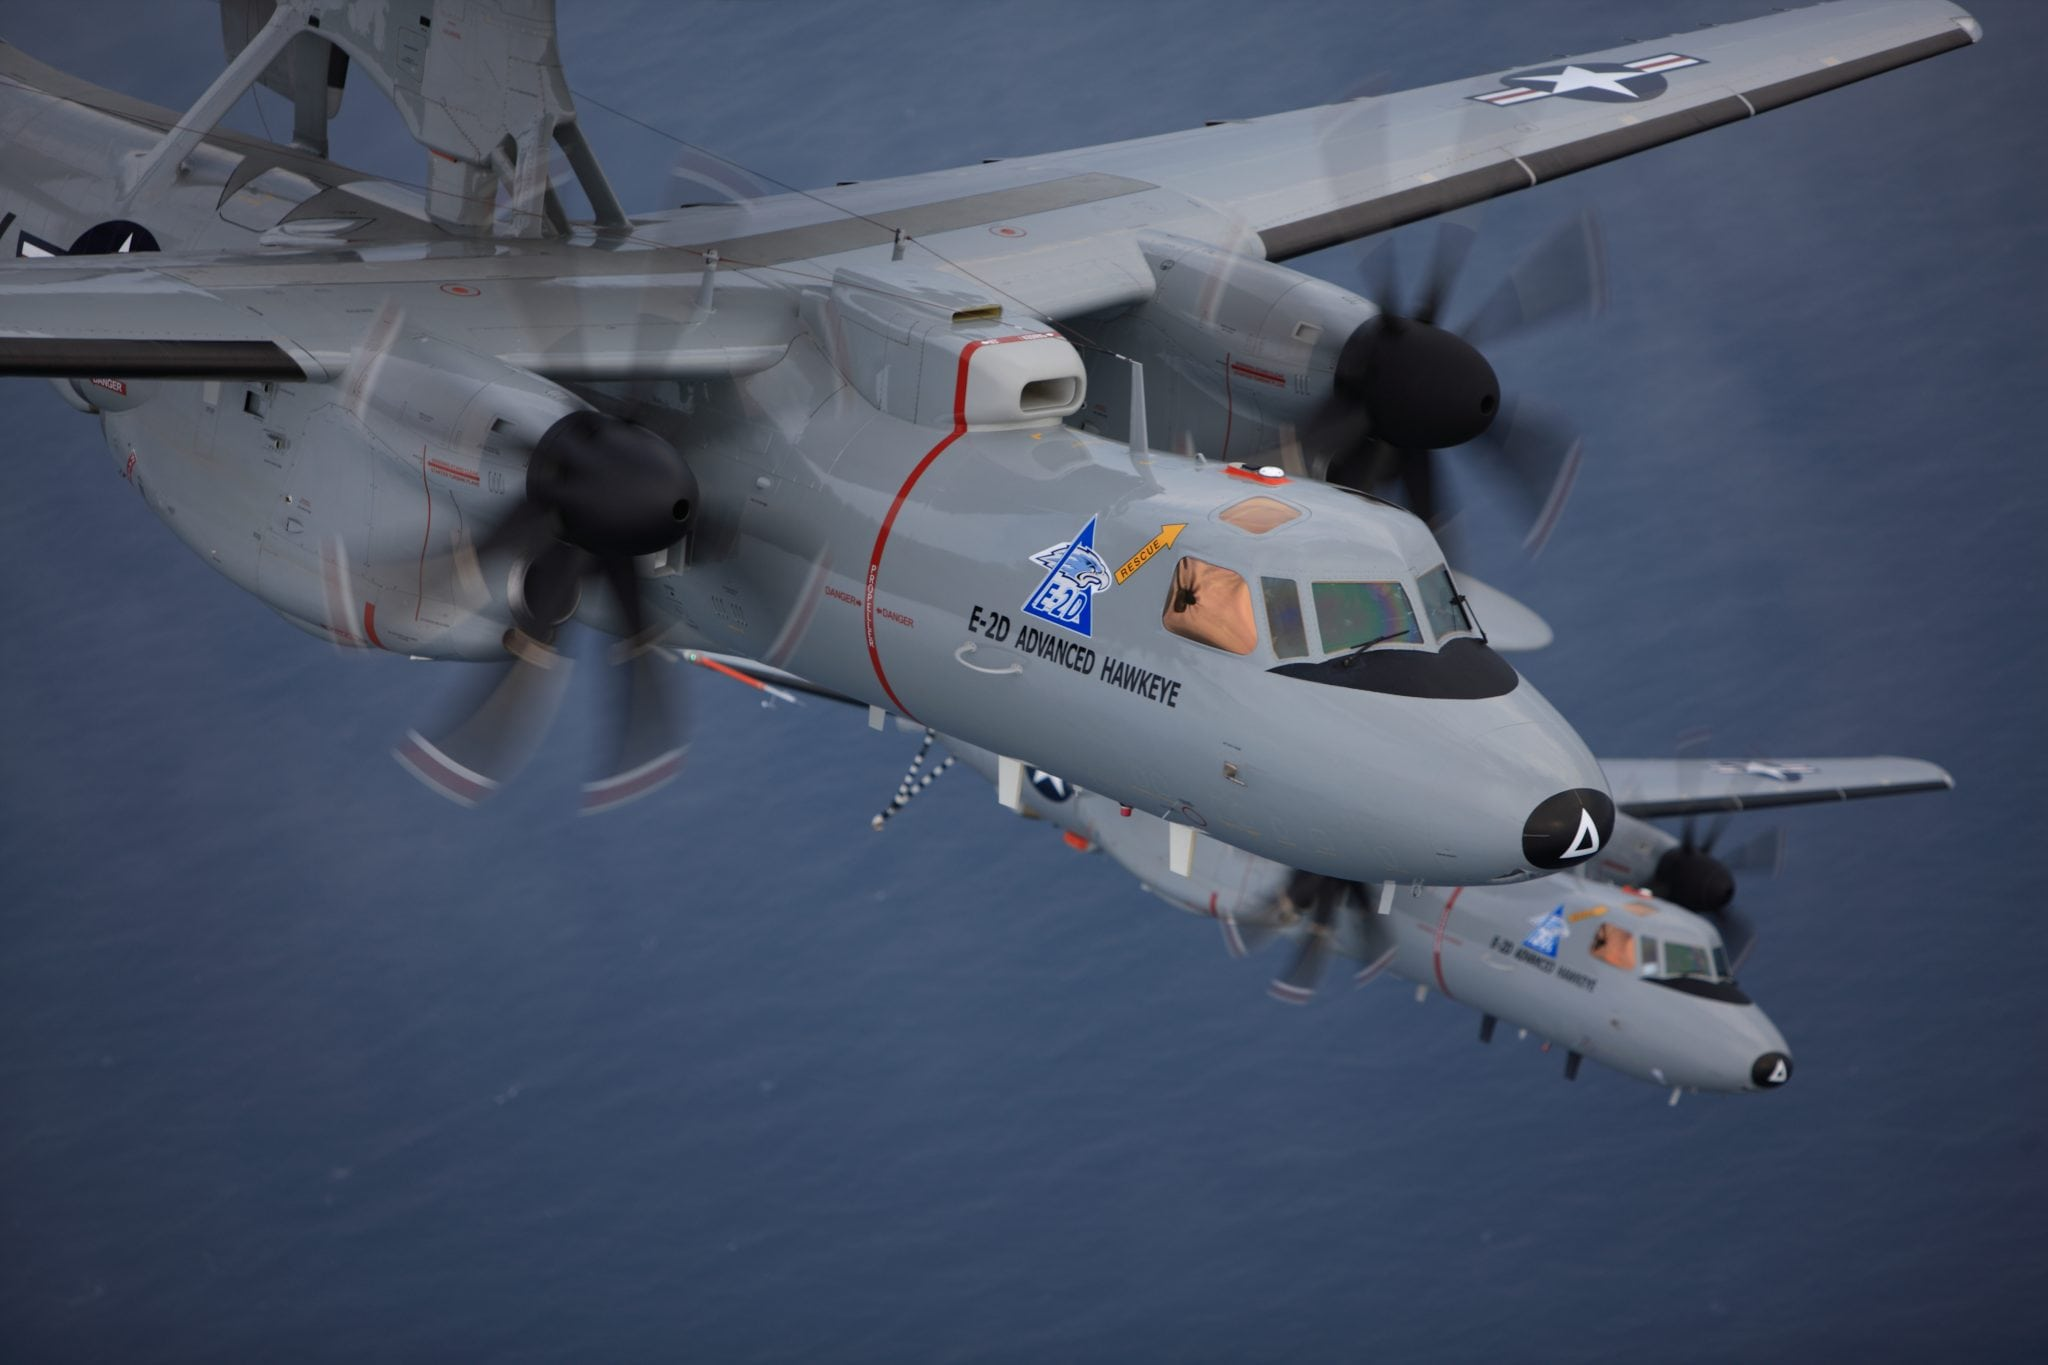E2: (2, 2, 1983, 916), (668, 568, 1955, 1104)
